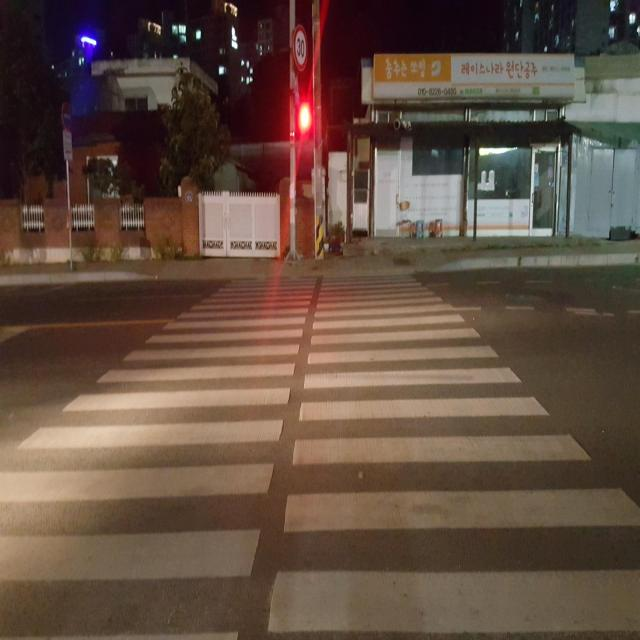빨간불: (297, 100, 313, 162)
횡단보도: (0, 267, 640, 639)
